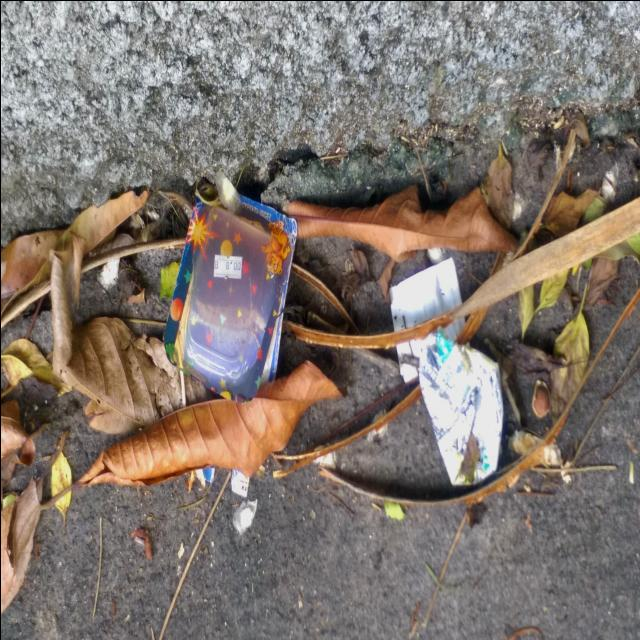Carded blister pack: (163, 191, 296, 402)
Other plastic: (418, 326, 503, 484)
Unlabeled litter: (389, 255, 466, 382), (196, 466, 249, 496)
